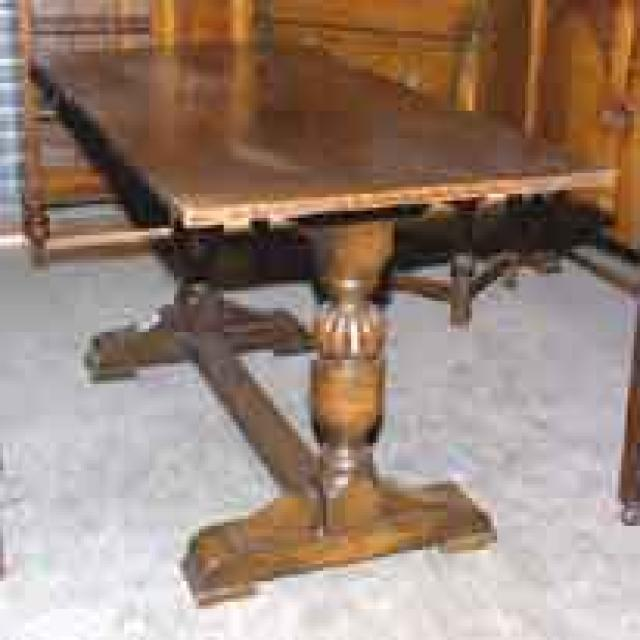table: (24, 35, 617, 608)
